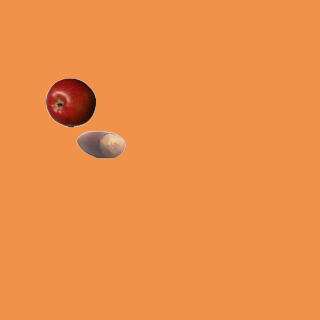Apple Braeburn: (45, 77, 95, 127)
Hazelnut: (75, 119, 125, 169)
